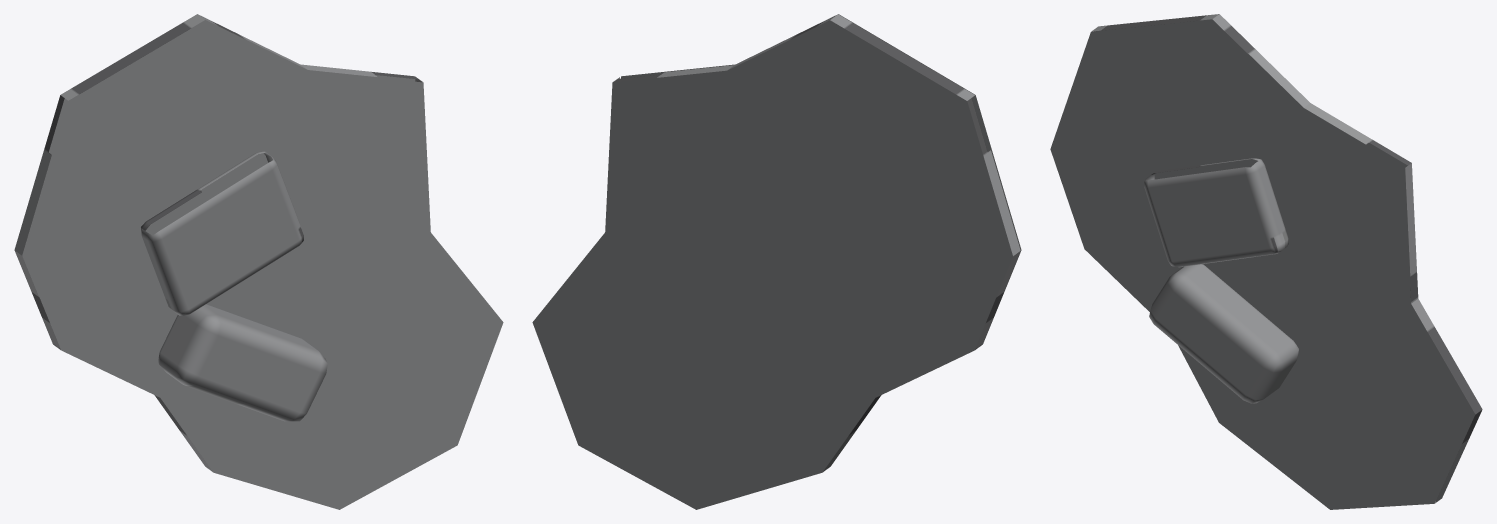
The picture shows the model from 3 angles, left to right: view 1: azimuth 30°, elevation 25°; view 2: azimuth 150°, elevation 25°; view 3: azimuth 330°, elevation 25°; orthographic projection. The views are drawn at different scales.
Size of the model in its own units: 0.985 by 1.02 by 0.13.
